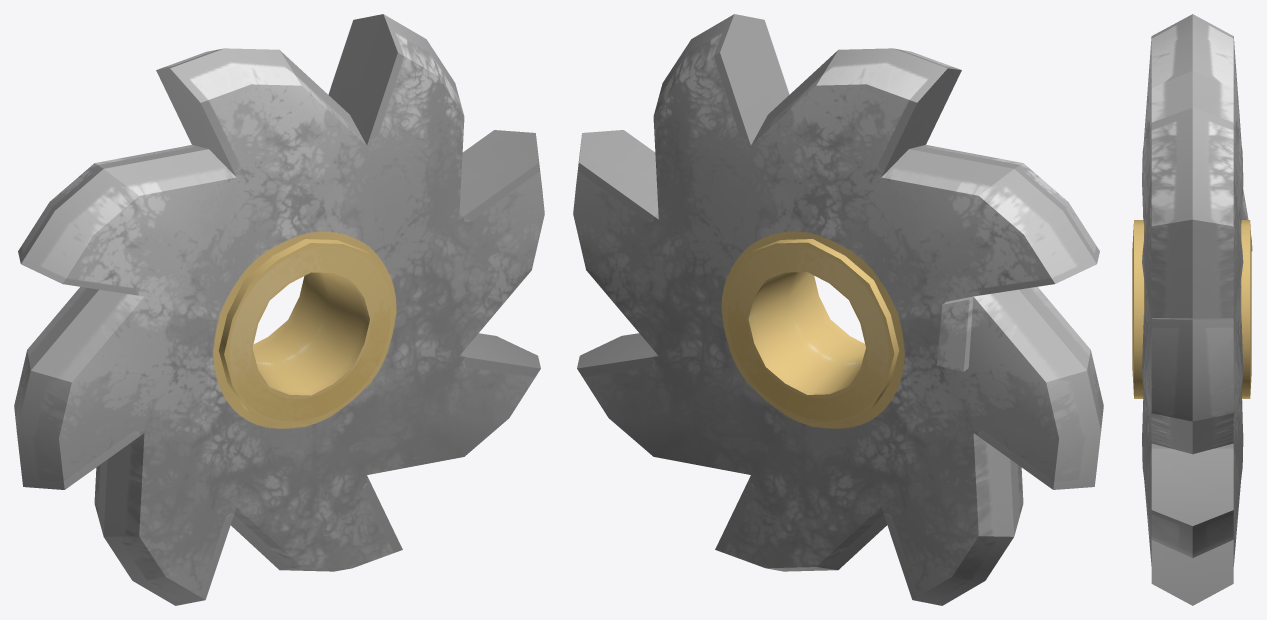
Rendered from Saw.fbx.
3 views of the same model, side by side, from view 1: azimuth 30°, elevation 25°; view 2: azimuth 150°, elevation 25°; view 3: azimuth 270°, elevation 25° (orthographic). The views are drawn at different scales.
Parts seen in each view (by area): view 1: Circle.003; view 2: Circle.003; view 3: Circle.003.
Part boxes in pixels (x1=…): Circle.003: x1=14, y1=14, x2=544, y2=605; Circle.003: x1=573, y1=14, x2=1103, y2=605; Circle.003: x1=1132, y1=14, x2=1252, y2=605.
Bounding box in the file's own units: 179 × 179 × 38.43.
Materials: 1 (1 with a texture image).
